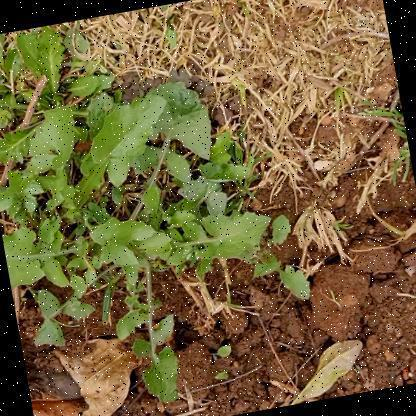Weeds: (0, 0, 328, 415)
